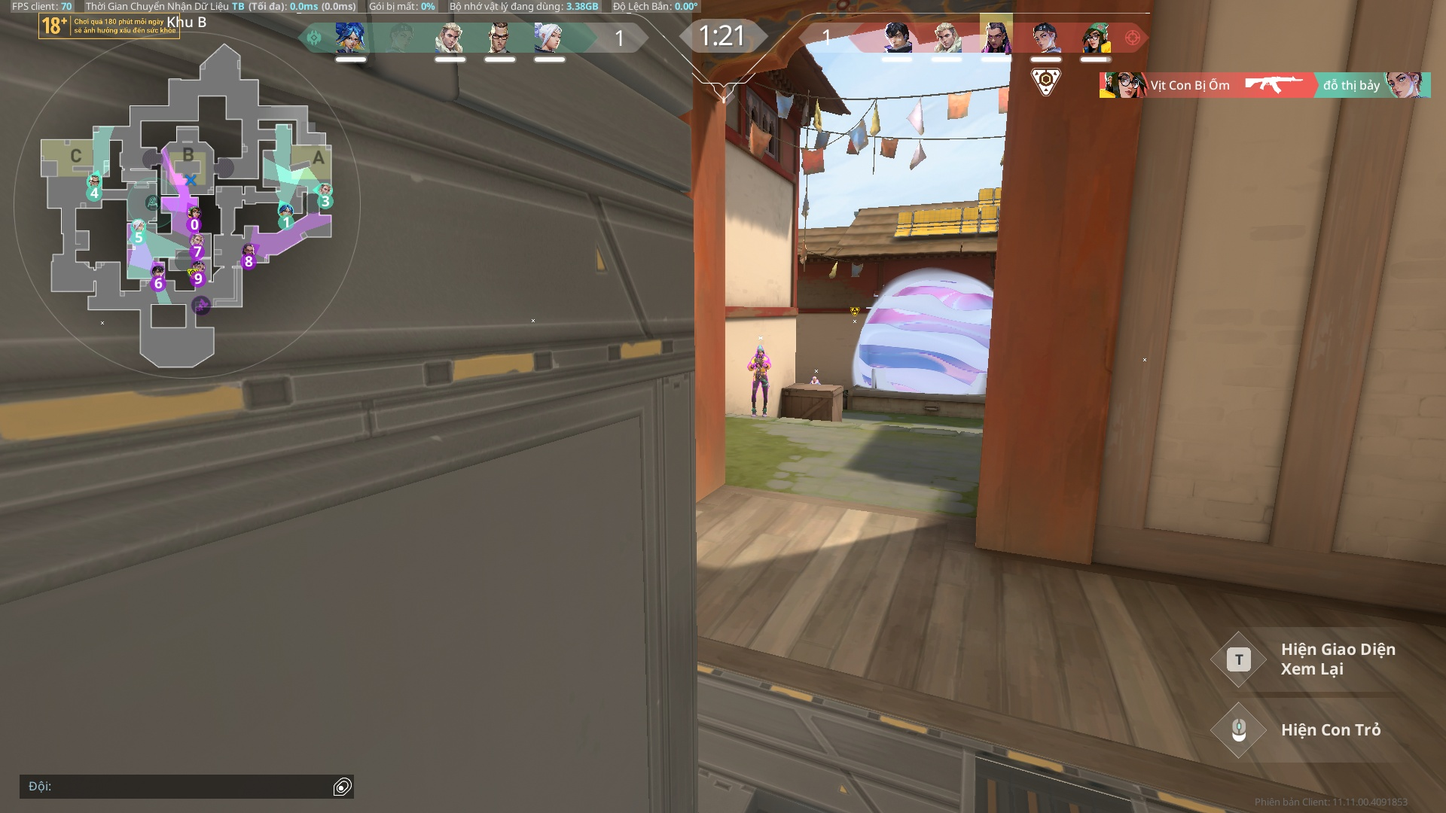body: (749, 354, 770, 370), (809, 380, 821, 385)
head: (756, 347, 765, 356), (812, 375, 817, 381)
